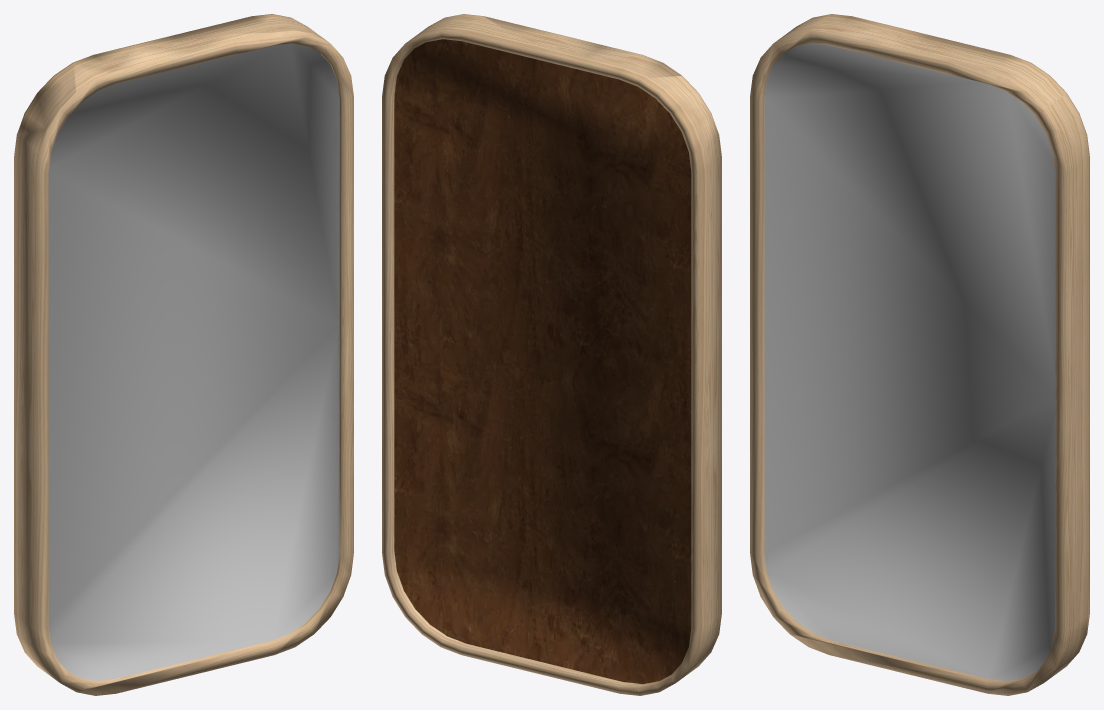
Rendered from mirror_wall_rickmaolly.glb.
3 renders of one model, left to right at view 1: azimuth 30°, elevation 25°; view 2: azimuth 150°, elevation 25°; view 3: azimuth 330°, elevation 25°, orthographic.
Visible parts, largest first — view 1: SM_Mirror_Material.001_0; view 2: SM_Mirror_Material.001_0; view 3: SM_Mirror_Material.001_0.
Part boxes in pixels (<box>): SM_Mirror_Material.001_0: <box>14,14,353,695</box>; SM_Mirror_Material.001_0: <box>382,14,721,695</box>; SM_Mirror_Material.001_0: <box>750,14,1089,695</box>.
Bounding box in the file's own units: 0.8001 × 1.5 × 0.1.
Materials: 1 (1 with a texture image).
